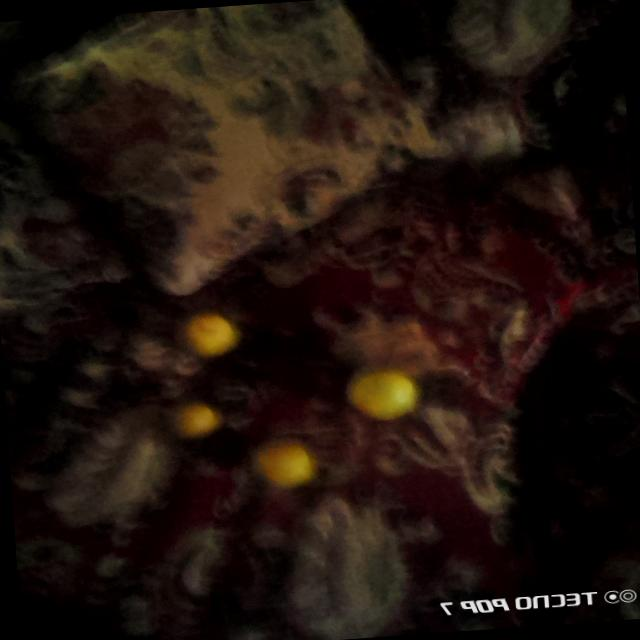Ripe orange: (335, 359, 436, 432), (248, 434, 323, 501), (176, 309, 252, 359), (158, 392, 228, 446)
